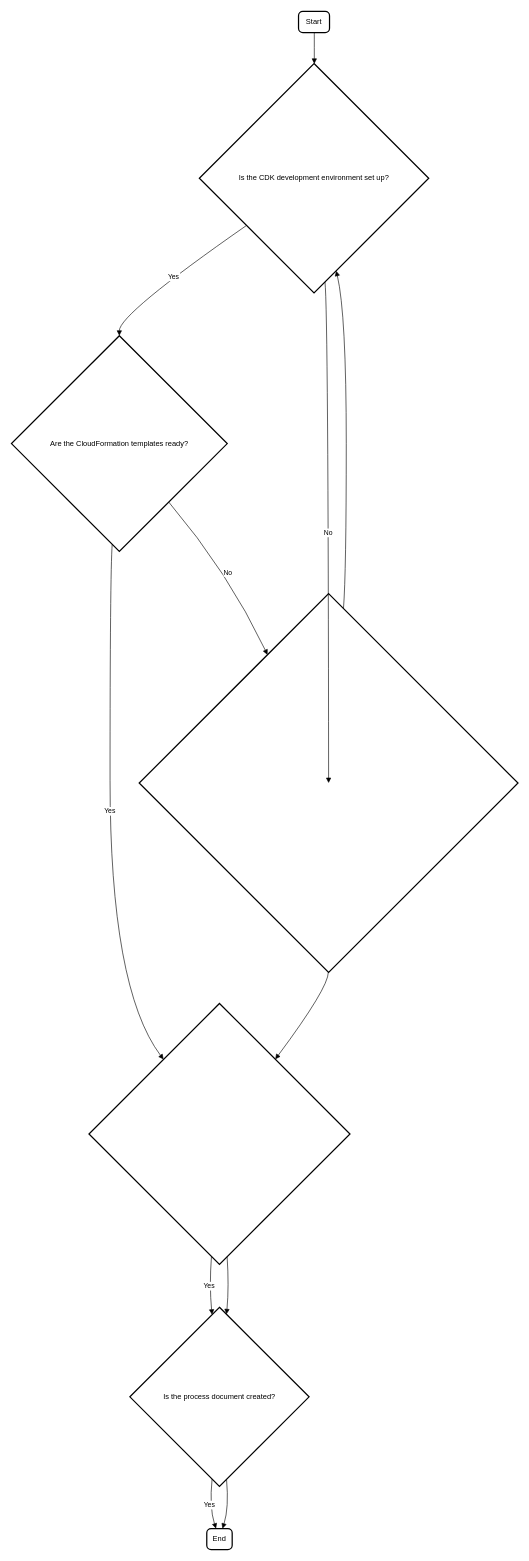
The diagram is 529 pixels wide and 1561 high, and some of its shapes have lost their labels. The centre of each missing label's shape, as x and y in pixels:
"Are the implementation requirements documented?" goes at [219,1134].
"Set up the CDK development environments and the CloudFormation templates" goes at [328,783].
